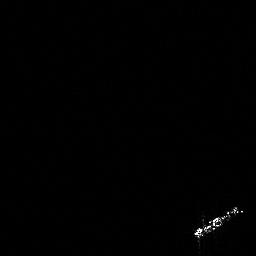ship: (192, 202, 244, 243)
